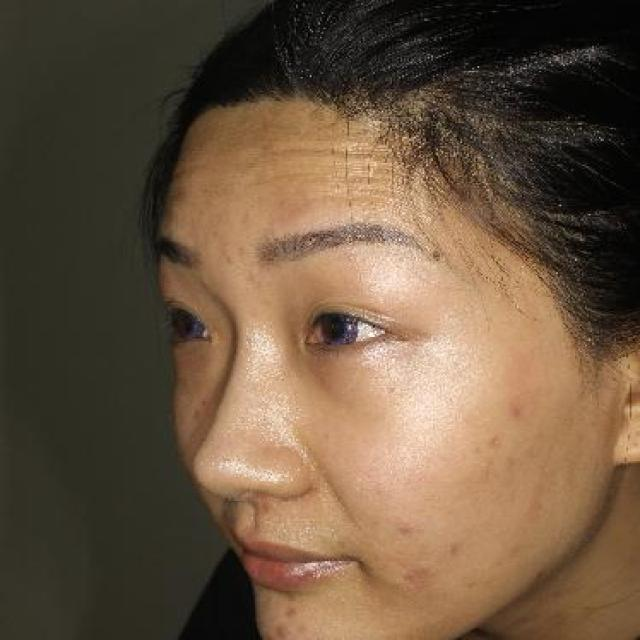blackhead: (504, 400, 528, 423), (271, 620, 291, 640), (482, 432, 502, 451), (446, 543, 468, 560), (410, 563, 427, 580), (281, 605, 301, 619), (334, 535, 349, 551), (400, 568, 414, 585)
nodules: (398, 523, 417, 535)
